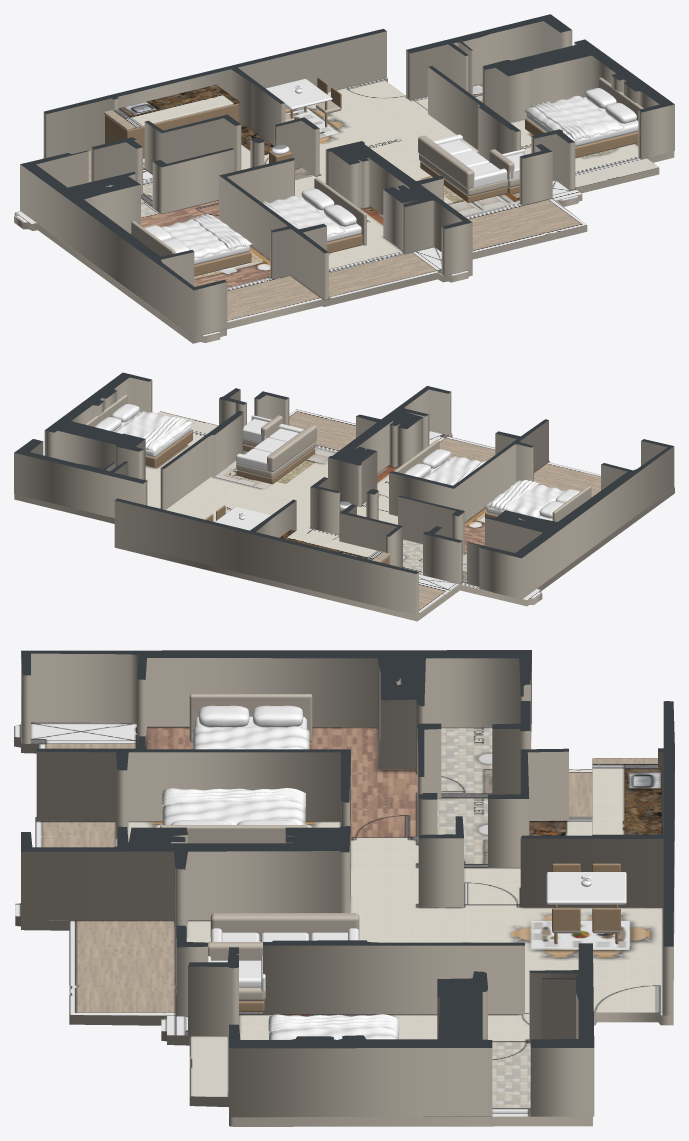
3 views of the same model, one above another, from view 1: azimuth 30°, elevation 25°; view 2: azimuth 150°, elevation 25°; view 3: azimuth 270°, elevation 25° (orthographic). The views are drawn at different scales.
Parts seen in each view (by area): view 1: Partition walls, Apartment floor, Stone worktop, Draped bed linen.004, Draped bed linen, Kitchen cabinets, Sofa back, Draped bed linen.002, Marble dining top, Walnut upholstered base.002, Draped bed linen.005, Upholstered headboard.001 (+6 smaller); view 2: Partition walls, Apartment floor, Stone worktop, Draped bed linen, Draped bed linen.004, Sofa back, Draped bed linen.002, Marble dining top, Draped bed linen.001, Upholstered headboard, Draped bed linen.005, Upholstered sofa frame (+4 smaller); view 3: Partition walls, Apartment floor, Stone worktop, Sofa back, Draped bed linen.002, Marble dining top, Draped bed linen, Upholstered headboard, Upholstered headboard.001, Draped bed linen.003, Draped bed linen.005, Draped bed linen.004 (+3 smaller).
Part boxes in pixels (x1=…): Partition walls: x1=20, y1=14, x2=674, y2=336; Apartment floor: x1=14, y1=78, x2=674, y2=343; Stone worktop: x1=104, y1=84, x2=239, y2=130; Draped bed linen.004: x1=524, y1=95, x2=624, y2=141; Draped bed linen: x1=161, y1=215, x2=252, y2=258; Kitchen cabinets: x1=105, y1=103, x2=238, y2=158; Sofa back: x1=418, y1=135, x2=474, y2=188; Draped bed linen.002: x1=265, y1=196, x2=344, y2=236; Marble dining top: x1=266, y1=79, x2=332, y2=109; Walnut upholstered base.002: x1=525, y1=118, x2=638, y2=158; Draped bed linen.005: x1=530, y1=101, x2=591, y2=140; Upholstered headboard.001: x1=314, y1=177, x2=366, y2=245; Partition walls: x1=14, y1=372, x2=674, y2=615; Apartment floor: x1=14, y1=409, x2=674, y2=621; Stone worktop: x1=280, y1=529, x2=390, y2=562; Draped bed linen: x1=484, y1=480, x2=564, y2=517; Draped bed linen.004: x1=115, y1=410, x2=193, y2=452; Sofa back: x1=267, y1=424, x2=316, y2=471; Draped bed linen.002: x1=424, y1=455, x2=480, y2=484; Marble dining top: x1=215, y1=506, x2=270, y2=530; Draped bed linen.001: x1=489, y1=480, x2=540, y2=510; Upholstered headboard: x1=552, y1=485, x2=591, y2=521; Draped bed linen.005: x1=142, y1=416, x2=188, y2=450; Upholstered sofa frame: x1=236, y1=441, x2=316, y2=478; Partition walls: x1=21, y1=650, x2=674, y2=1117; Apartment floor: x1=14, y1=721, x2=673, y2=1126; Stone worktop: x1=592, y1=758, x2=661, y2=835; Sofa back: x1=210, y1=913, x2=359, y2=940; Draped bed linen.002: x1=162, y1=788, x2=305, y2=824; Marble dining top: x1=546, y1=872, x2=626, y2=904; Draped bed linen: x1=192, y1=726, x2=309, y2=749; Upholstered headboard: x1=189, y1=694, x2=312, y2=741; Upholstered headboard.001: x1=160, y1=825, x2=307, y2=843; Draped bed linen.003: x1=162, y1=788, x2=305, y2=807; Draped bed linen.005: x1=268, y1=1014, x2=399, y2=1033; Draped bed linen.004: x1=269, y1=1014, x2=398, y2=1039.
Bounding box in the file's own units: 14.41 × 1.3 × 9.92.
10 materials, 1 textured.
